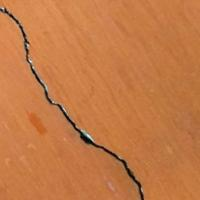crack: (2, 2, 149, 199)
